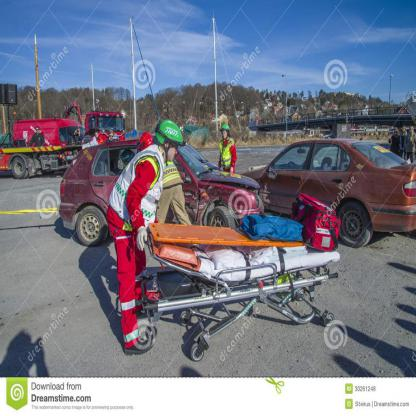face: (167, 139, 179, 162), (223, 130, 228, 140), (110, 134, 114, 142), (403, 127, 406, 133), (395, 130, 398, 135), (410, 128, 413, 133), (37, 129, 40, 134), (78, 129, 81, 134), (96, 134, 99, 139)
